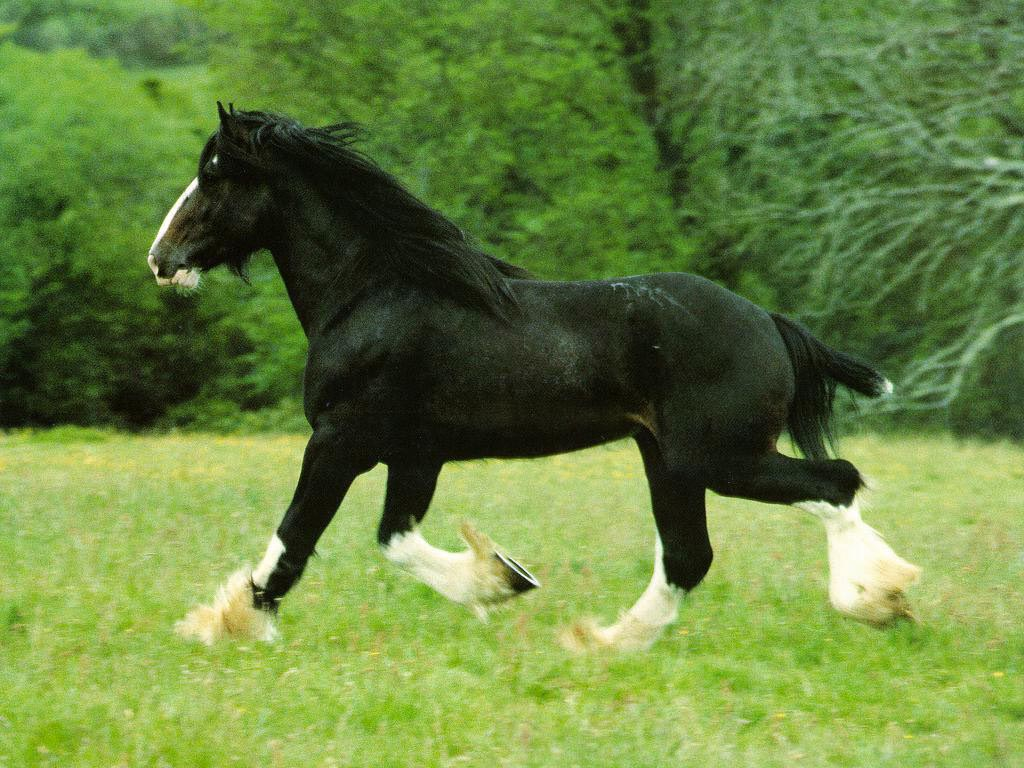horse: (112, 74, 942, 681)
